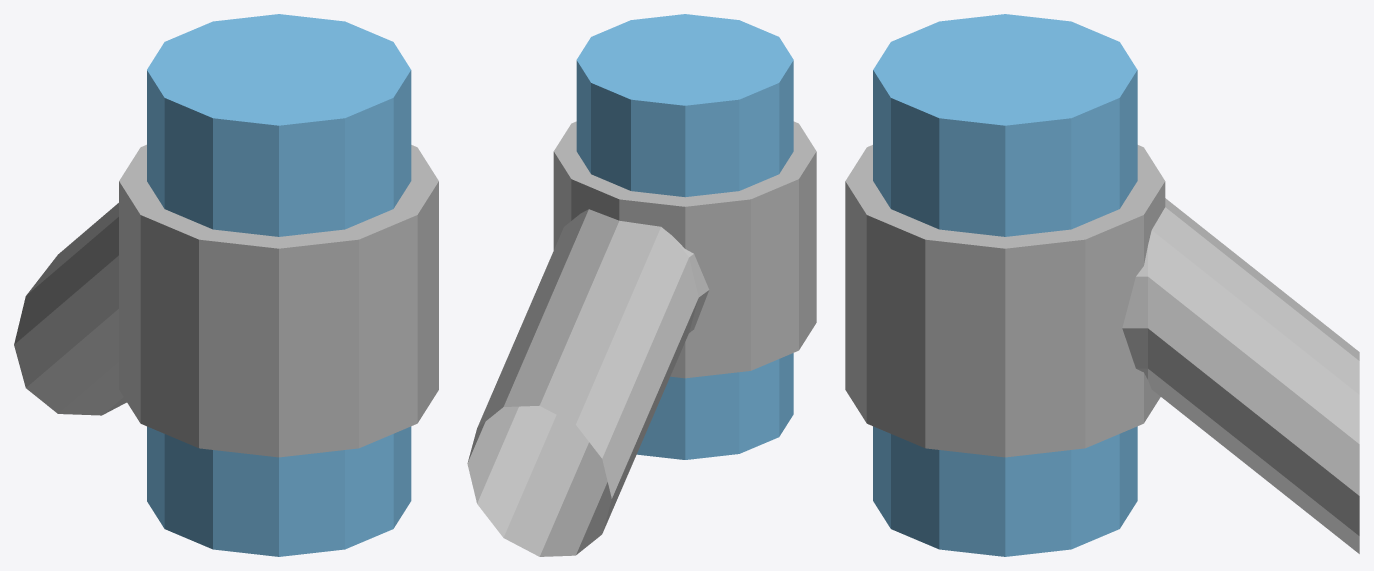
The model's file is gun_mine.glb.
The picture shows the model from 3 angles, left to right: view 1: azimuth 30°, elevation 25°; view 2: azimuth 150°, elevation 25°; view 3: azimuth 270°, elevation 25°; orthographic projection. The views are drawn at different scales.
Parts seen in each view (by area): view 1: Circle.001; view 2: Circle.001; view 3: Circle.001.
Part boxes in pixels (<box>): Circle.001: <box>14,14,438,556</box>; Circle.001: <box>467,14,816,556</box>; Circle.001: <box>845,14,1359,556</box>.
Bounding box in the file's own units: 1.21 × 1.98 × 1.95.
1 material, 1 textured.
